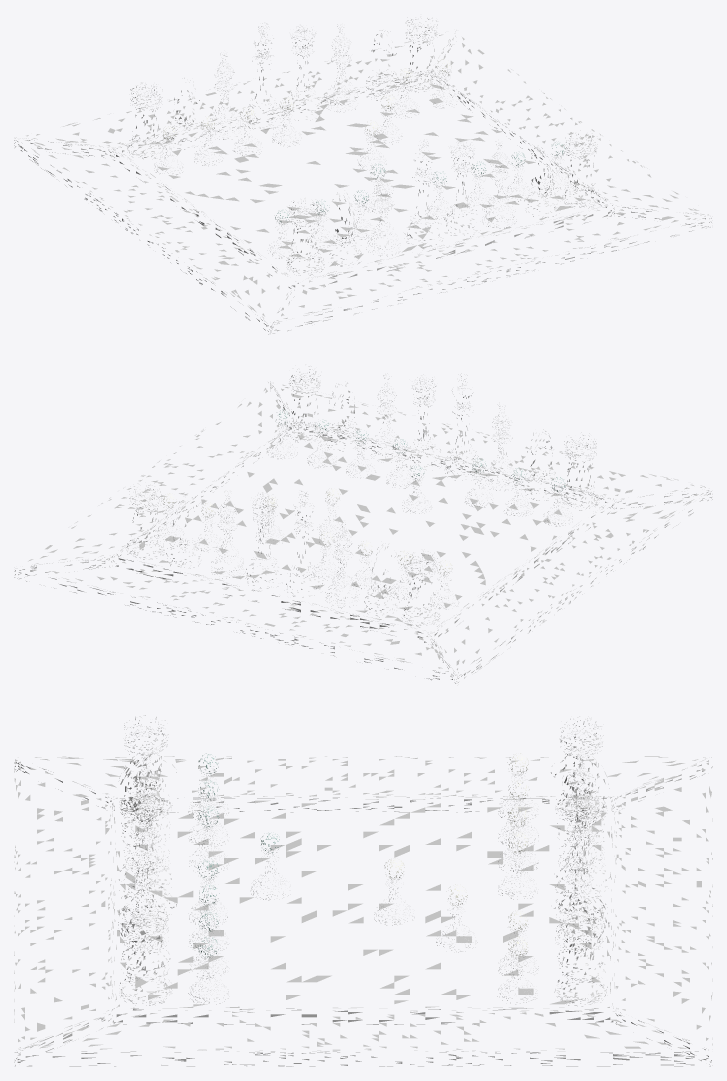
The model's file is chess-set.glb.
3 renders of one model, top to bottom at view 1: azimuth 30°, elevation 25°; view 2: azimuth 150°, elevation 25°; view 3: azimuth 270°, elevation 25°, orthographic. The views are drawn at different scales.
Visible parts, largest first — view 1: Chessboard; view 2: Chessboard; view 3: Chessboard, Castle_B2, Castle_W1, Castle_W2, Castle_B1, Queen_W, Knight_B1.
Part boxes in pixels (x1=…): Chessboard: x1=14, y1=31, x2=711, y2=334; Chessboard: x1=14, y1=381, x2=712, y2=683; Chessboard: x1=14, y1=756, x2=712, y2=1066; Castle_B2: x1=120, y1=900, x2=171, y2=1005; Castle_W1: x1=554, y1=900, x2=607, y2=1006; Castle_W2: x1=555, y1=716, x2=606, y2=822; Castle_B1: x1=120, y1=715, x2=172, y2=820; Queen_W: x1=556, y1=796, x2=607, y2=926; Knight_B1: x1=119, y1=747, x2=176, y2=847.
Size of the model in its own units: 0.7054 by 0.169 by 0.7054.
